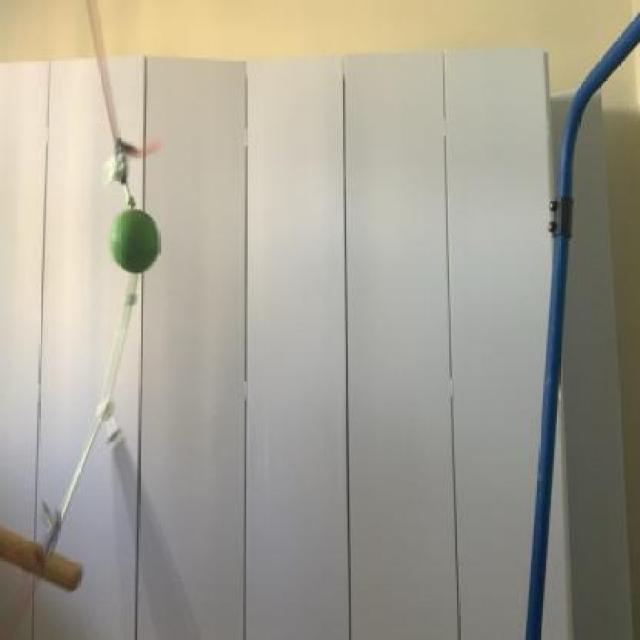baseball: (102, 198, 166, 280)
